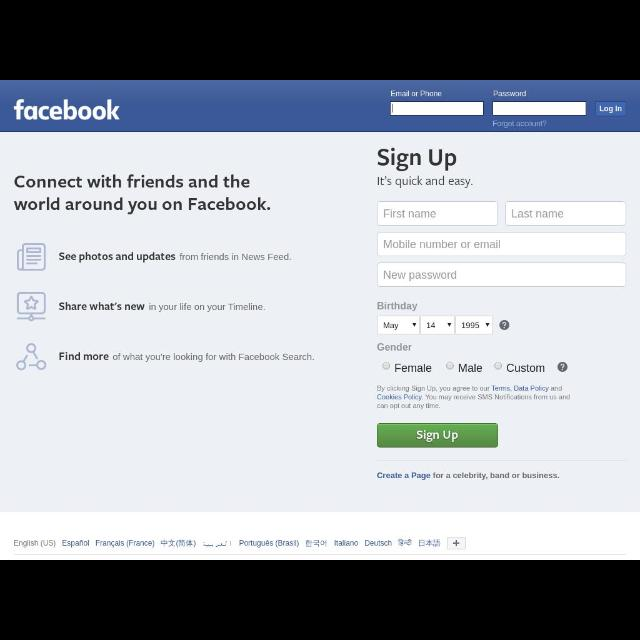button: (447, 537, 465, 549)
checkbox: (382, 362, 390, 370), (446, 362, 454, 370), (494, 362, 502, 370)
icon: (16, 292, 46, 322), (16, 243, 46, 270), (16, 344, 46, 370), (558, 362, 568, 372), (452, 540, 460, 546), (485, 323, 489, 327), (447, 323, 451, 327), (412, 323, 416, 327)
input: (378, 232, 626, 255), (378, 264, 626, 286), (378, 202, 498, 225), (506, 202, 626, 225), (391, 102, 484, 115), (494, 102, 586, 114)
spinner: (378, 316, 420, 334), (420, 316, 456, 334), (456, 316, 492, 334)
text: (14, 196, 270, 214), (15, 175, 249, 188), (60, 352, 314, 362), (59, 252, 291, 262), (15, 98, 120, 120), (59, 302, 265, 312), (378, 148, 456, 170), (377, 473, 559, 481), (378, 395, 570, 401), (378, 176, 472, 188), (378, 386, 562, 392), (384, 240, 500, 248), (384, 271, 456, 281), (417, 430, 458, 442), (97, 540, 155, 548), (240, 540, 298, 548), (494, 120, 546, 128), (512, 209, 564, 217), (391, 90, 442, 98), (378, 302, 418, 312), (384, 210, 434, 218), (378, 403, 440, 409), (15, 540, 56, 548), (395, 364, 431, 372), (508, 364, 544, 372), (160, 539, 196, 547), (378, 344, 412, 351), (62, 540, 90, 548), (203, 540, 231, 548), (600, 105, 622, 114), (494, 90, 526, 96), (460, 364, 482, 372), (364, 540, 392, 546), (307, 540, 327, 548), (420, 540, 440, 548), (334, 540, 358, 546), (384, 322, 398, 330), (398, 539, 412, 547), (462, 322, 478, 328), (427, 322, 435, 328)
textbutton: (378, 424, 498, 448), (596, 102, 626, 116)
toolbar: (1, 80, 640, 132)
